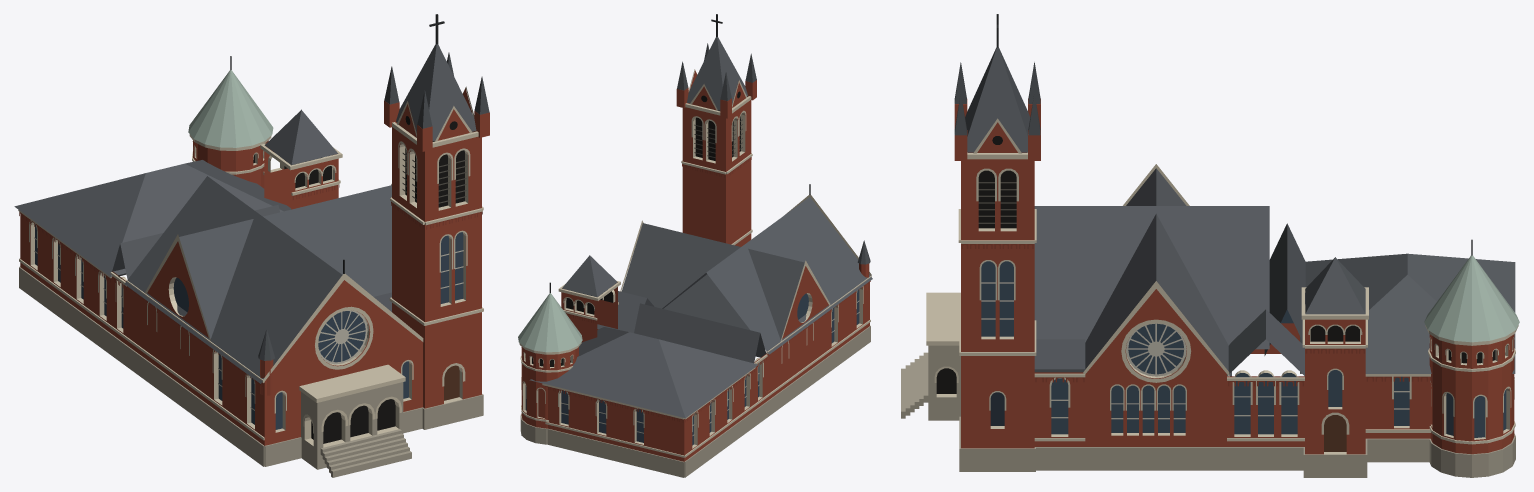
File: ch-first-methodist-1961.glb
The picture shows the model from 3 angles, left to right: view 1: azimuth 30°, elevation 25°; view 2: azimuth 150°, elevation 25°; view 3: azimuth 270°, elevation 25°; orthographic projection. The views are drawn at different scales.
Visible parts, largest first — view 1: ch_slate, ch_brick, ch_trim, ch_base, ch_stain, ch_cone, ch_shadow, ch_slate2, ch_lead, ch_brick2, ch_door; view 2: ch_slate, ch_brick, ch_trim, ch_base, ch_cone, ch_stain, ch_shadow, ch_brick2, ch_slate2; view 3: ch_slate, ch_brick, ch_base, ch_trim, ch_stain, ch_cone, ch_shadow, ch_lead, ch_slate2, ch_brick2, ch_door.
Part boxes in pixels (x1,y1,x2,y2): ch_slate: (14, 44, 476, 383); ch_brick: (20, 88, 489, 445); ch_trim: (18, 86, 483, 447); ch_base: (19, 266, 483, 477); ch_stain: (35, 224, 463, 429); ch_cone: (188, 70, 273, 147); ch_shadow: (253, 116, 464, 443); ch_slate2: (258, 52, 489, 360); ch_lead: (34, 237, 463, 410); ch_brick2: (19, 184, 482, 386); ch_door: (444, 365, 459, 400); ch_slate: (529, 37, 872, 418); ch_brick: (521, 70, 869, 461); ch_trim: (519, 69, 871, 457); ch_base: (520, 325, 870, 477); ch_cone: (518, 293, 582, 352); ch_stain: (525, 289, 859, 445); ch_shadow: (532, 91, 740, 366); ch_brick2: (545, 157, 870, 422); ch_slate2: (677, 43, 870, 264); ch_slate: (965, 47, 1515, 376); ch_brick: (954, 99, 1514, 454); ch_base: (901, 345, 1515, 477); ch_trim: (926, 118, 1518, 454); ch_stain: (981, 261, 1506, 437); ch_cone: (1424, 255, 1519, 342); ch_shadow: (936, 136, 1495, 393); ch_lead: (981, 282, 1409, 419); ch_slate2: (954, 62, 1040, 135); ch_brick2: (961, 244, 1430, 386); ch_door: (1324, 415, 1346, 451).
Bounding box in the file's own units: 21.33 × 34.4 × 43.7.
